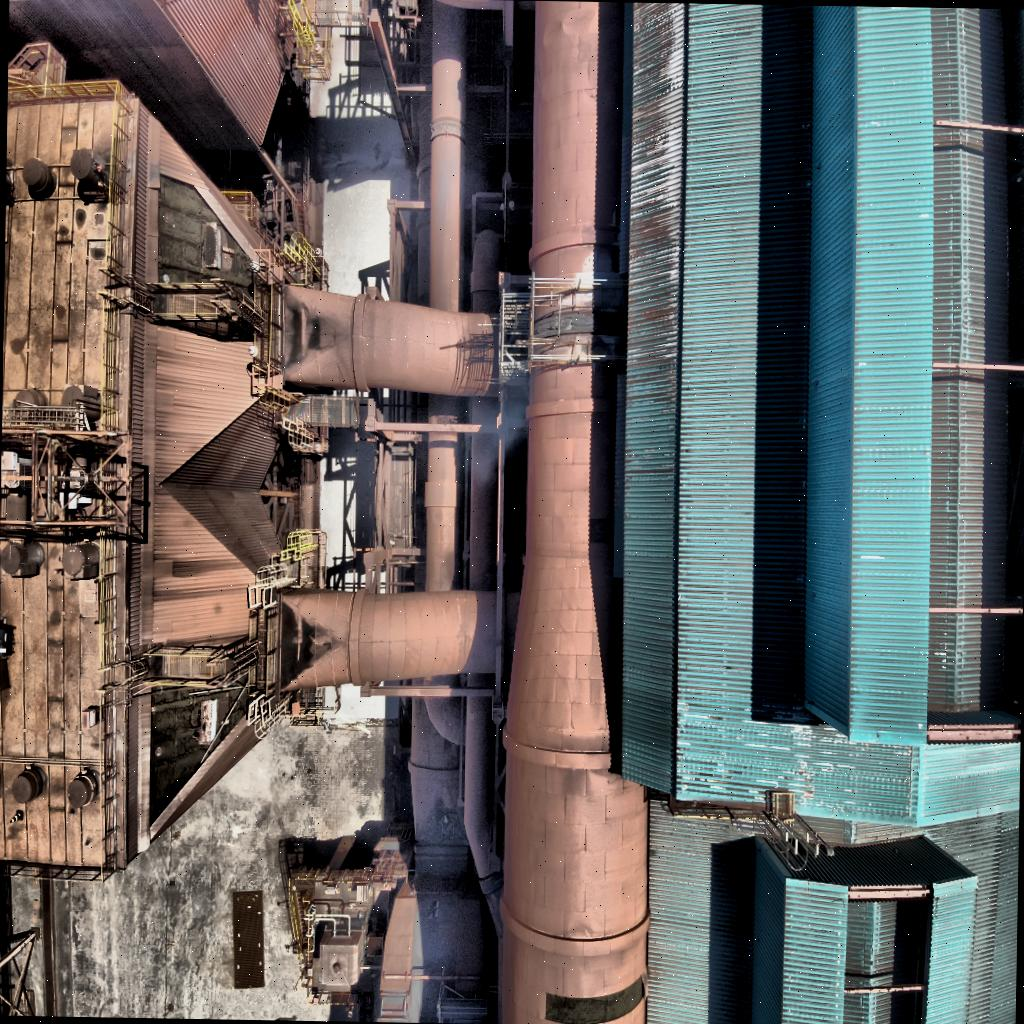Failures: (143, 672, 260, 828), (152, 166, 268, 306), (540, 973, 645, 1024), (522, 300, 624, 346)
